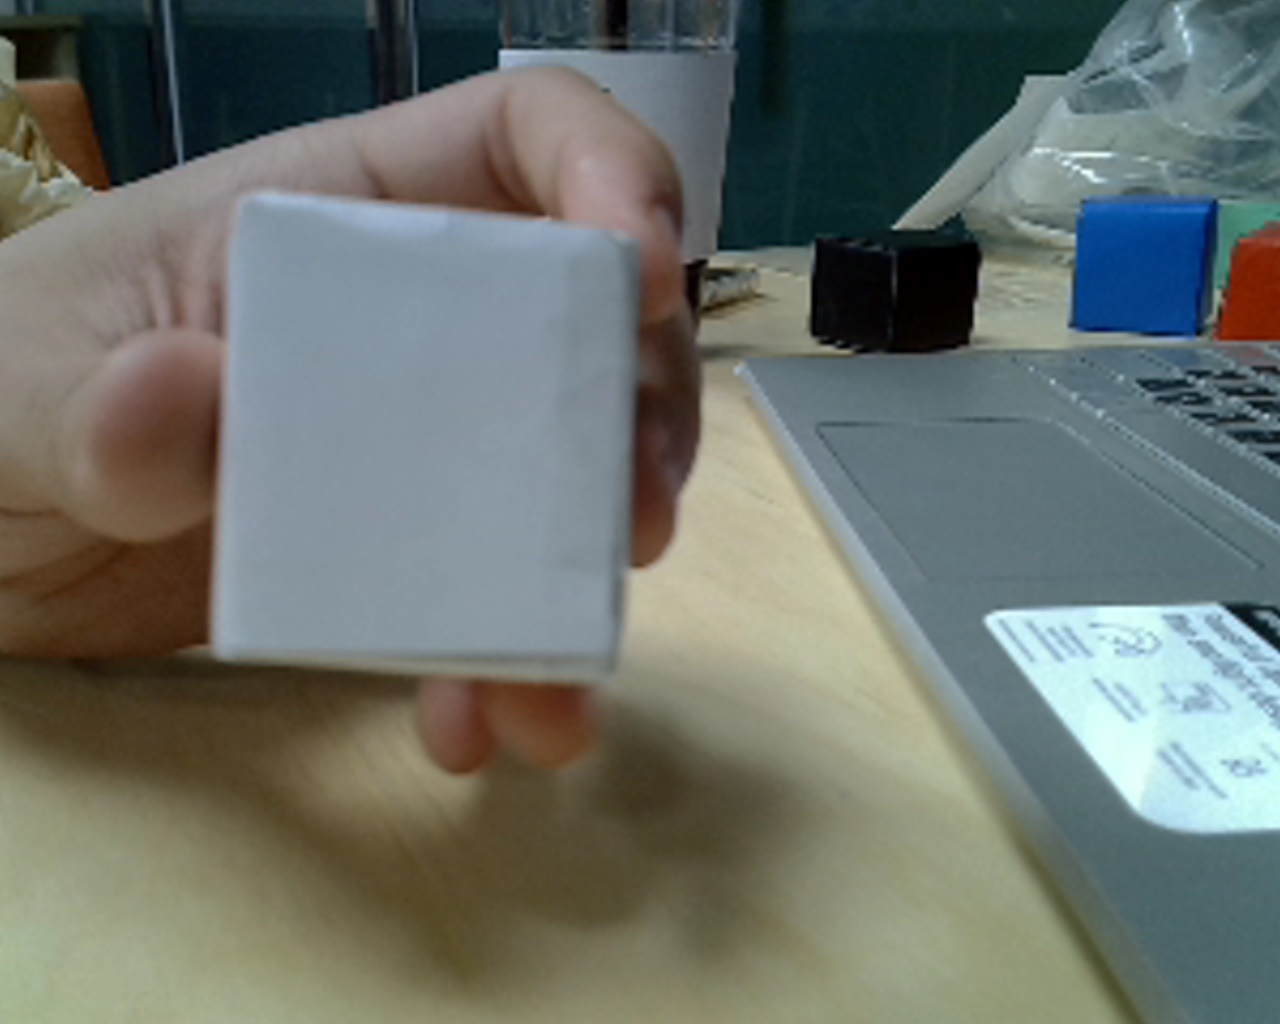whitebox: (186, 167, 658, 707)
